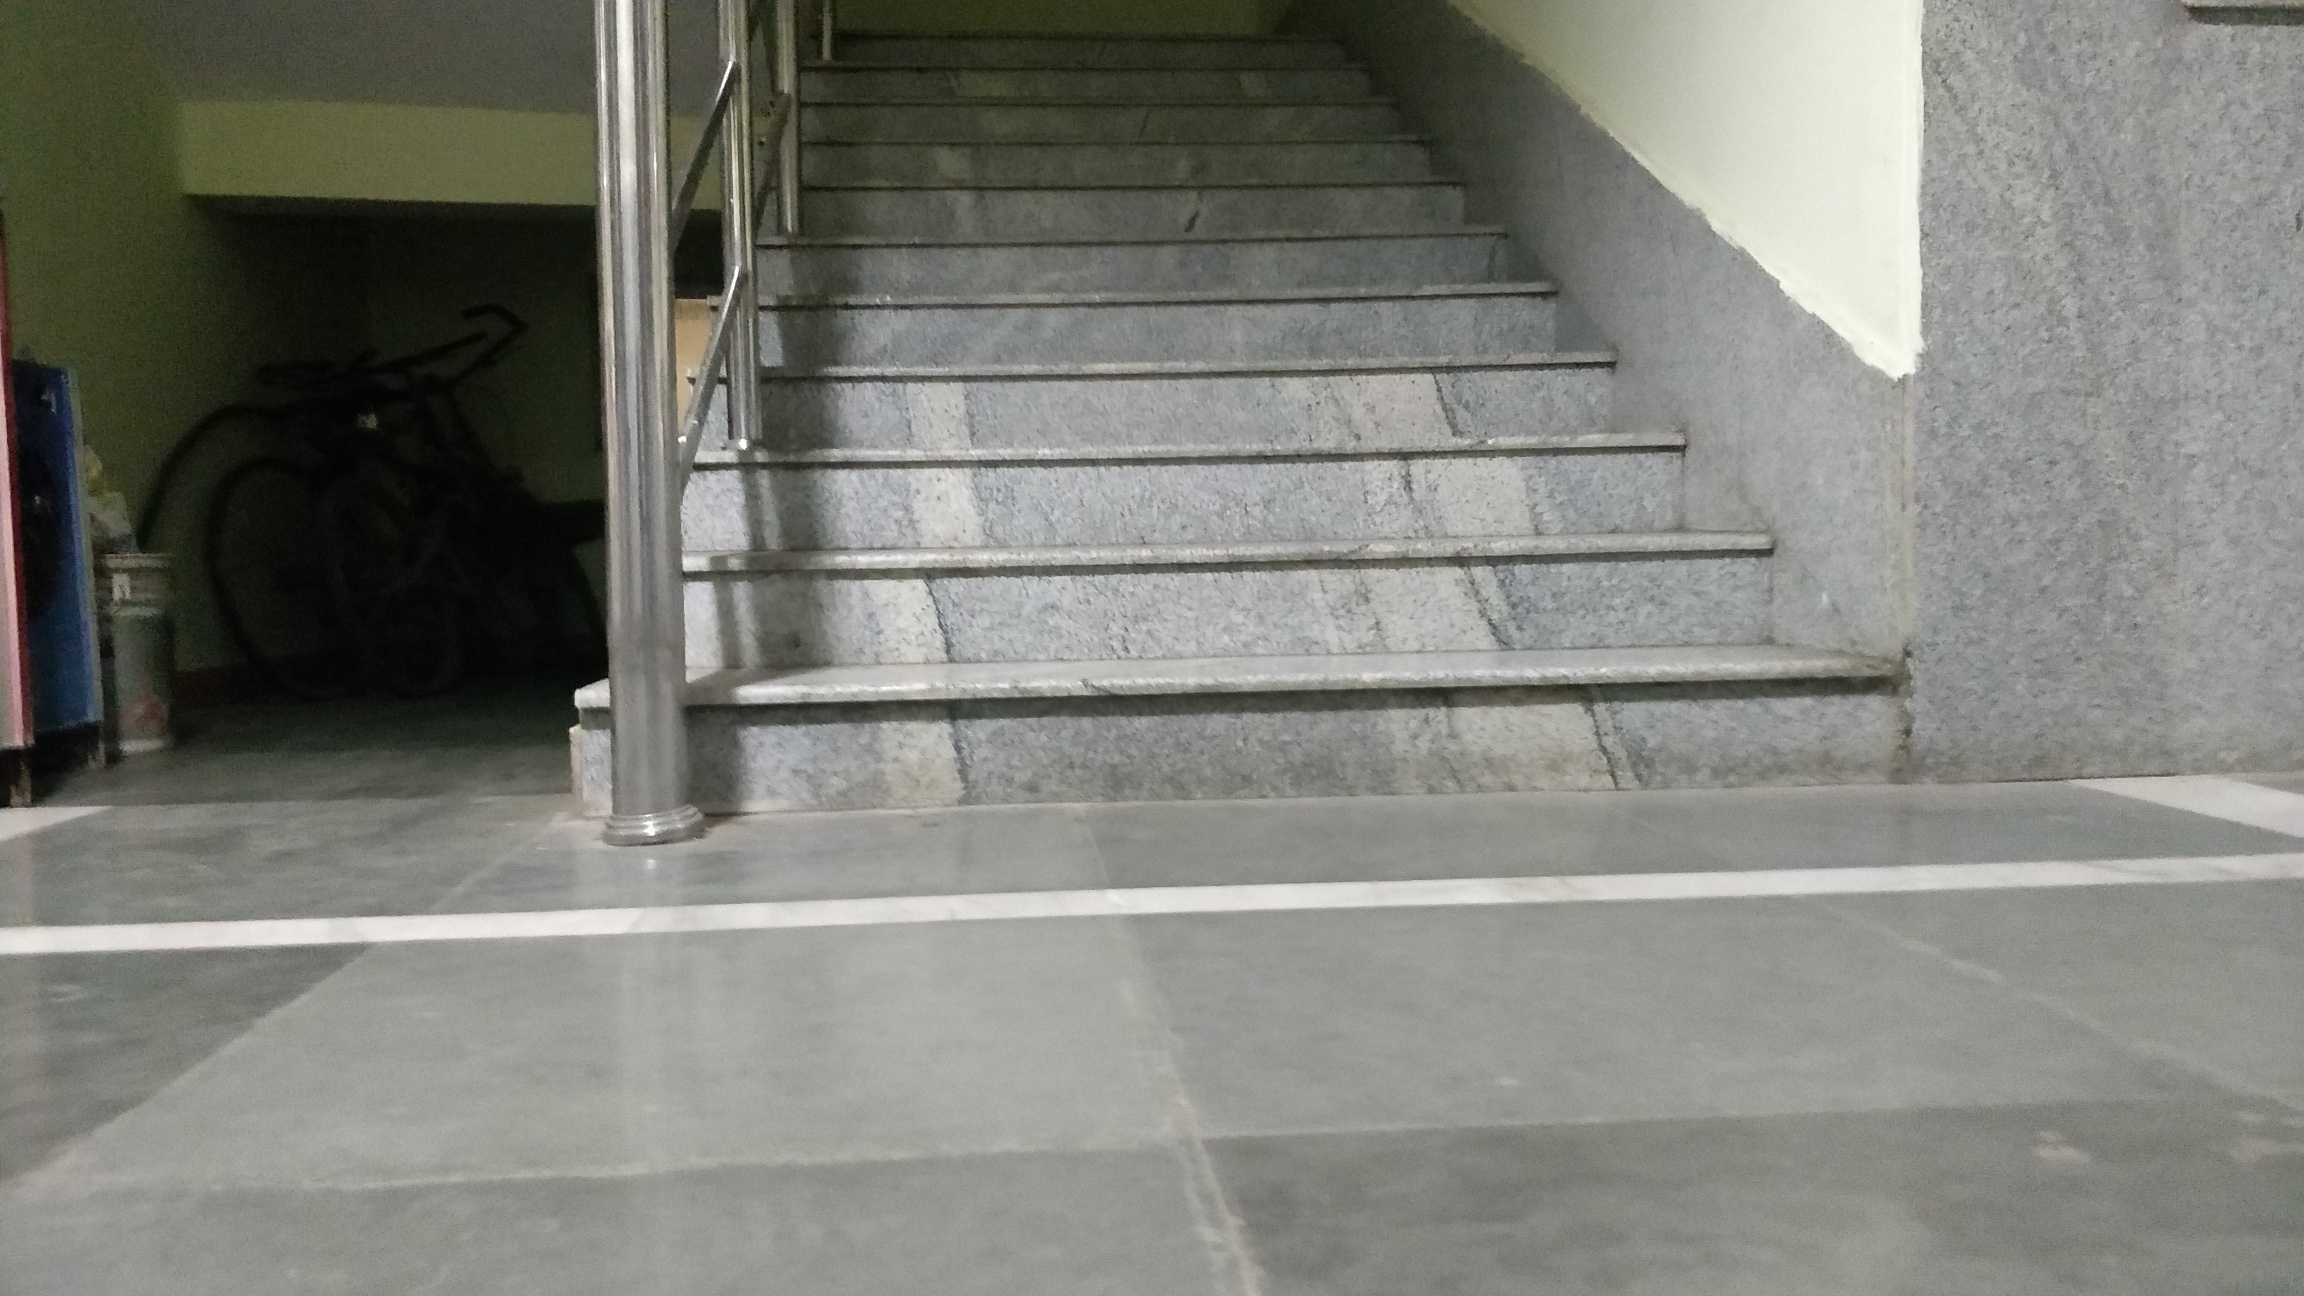stairs_up: (741, 27, 1881, 791)
